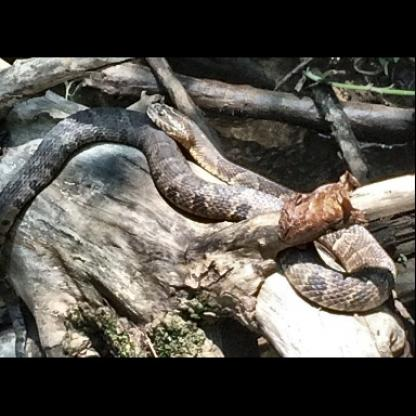Snake: (5, 98, 398, 315)
